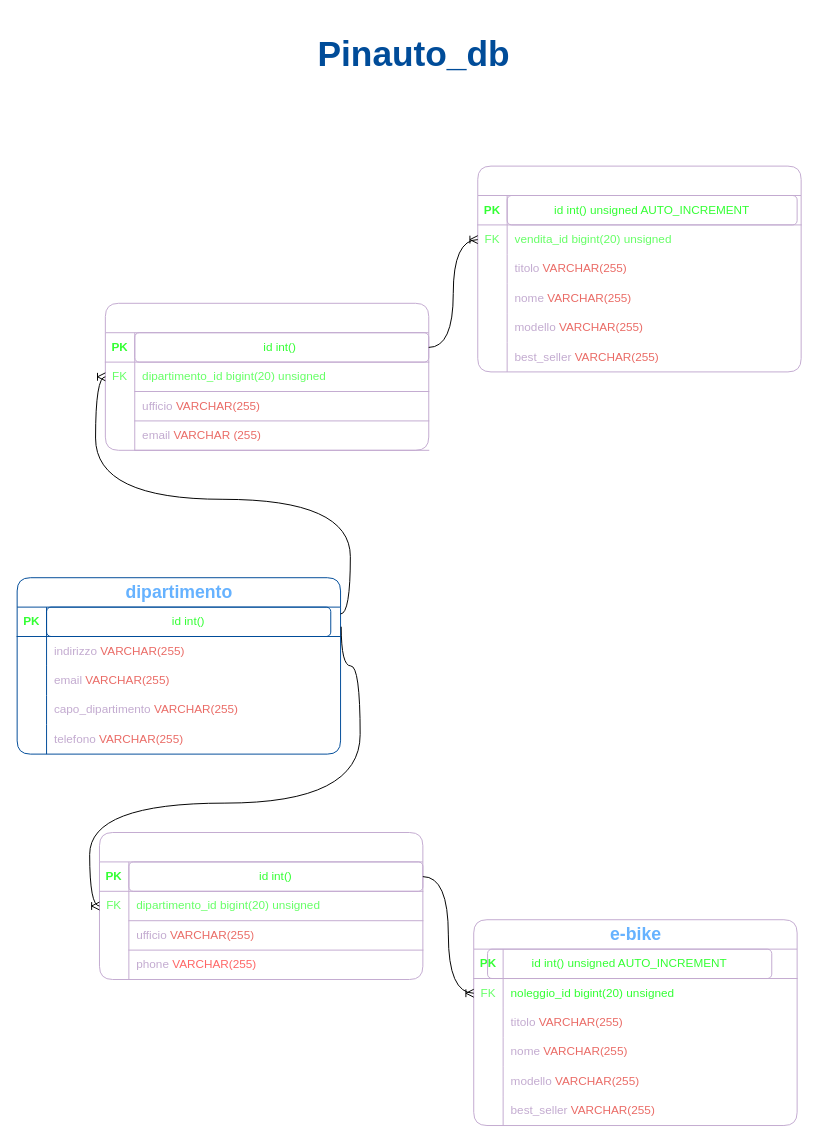
The diagram is 818 pixels wide and 1143 high, and some of its shapes have lost their labels. Each missing label, with the box of its shape:
auto_usate: (477, 165, 801, 372)
noleggio: (98, 832, 423, 980)
vendita: (104, 302, 429, 450)
